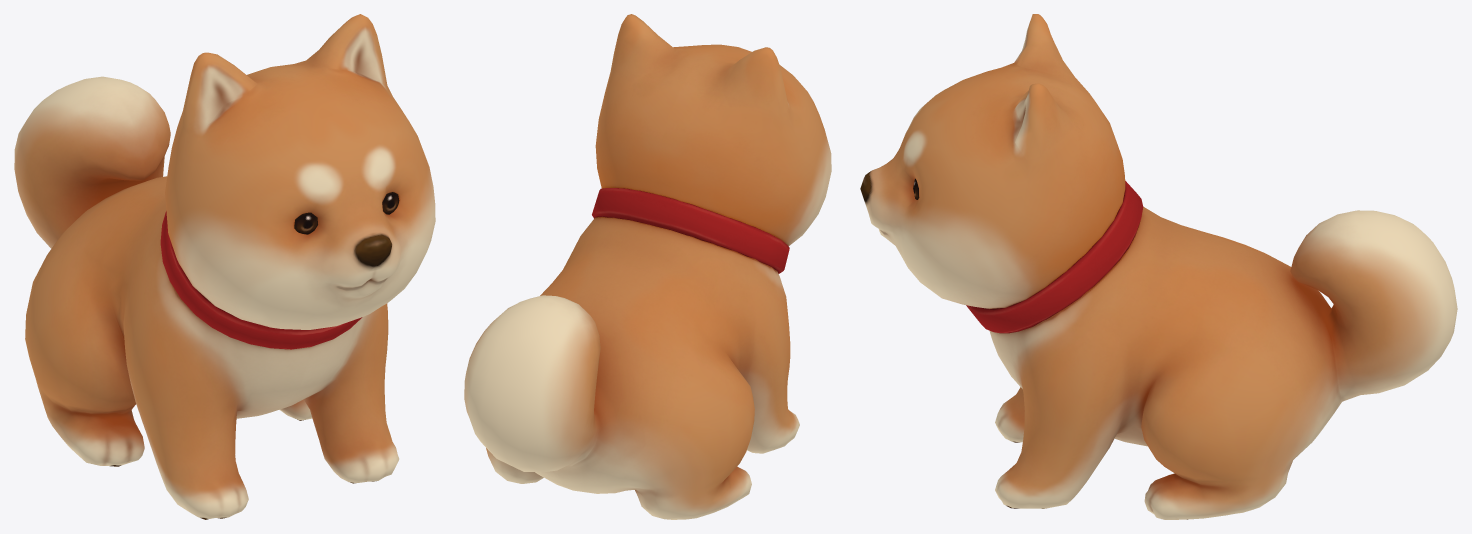
The picture shows the model from 3 angles, left to right: view 1: azimuth 30°, elevation 25°; view 2: azimuth 150°, elevation 25°; view 3: azimuth 270°, elevation 25°; orthographic projection. The views are drawn at different scales.
Visible parts, largest first — view 1: Box002, Group18985, Object001_default_0; view 2: Box002, Group18985; view 3: Box002, Group18985.
Boxes of the visible parts, <box> form: Box002: <box>14,14,435,519</box>; Group18985: <box>160,211,362,349</box>; Object001_default_0: <box>294,192,399,234</box>; Box002: <box>464,14,831,519</box>; Group18985: <box>592,188,789,273</box>; Box002: <box>860,14,1457,519</box>; Group18985: <box>966,181,1143,333</box>.
Size of the model in its own units: 0.9209 by 1.38 by 1.77.
Materials: 1 (1 with a texture image).
